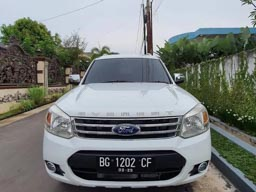plat: (94, 155, 154, 167)
